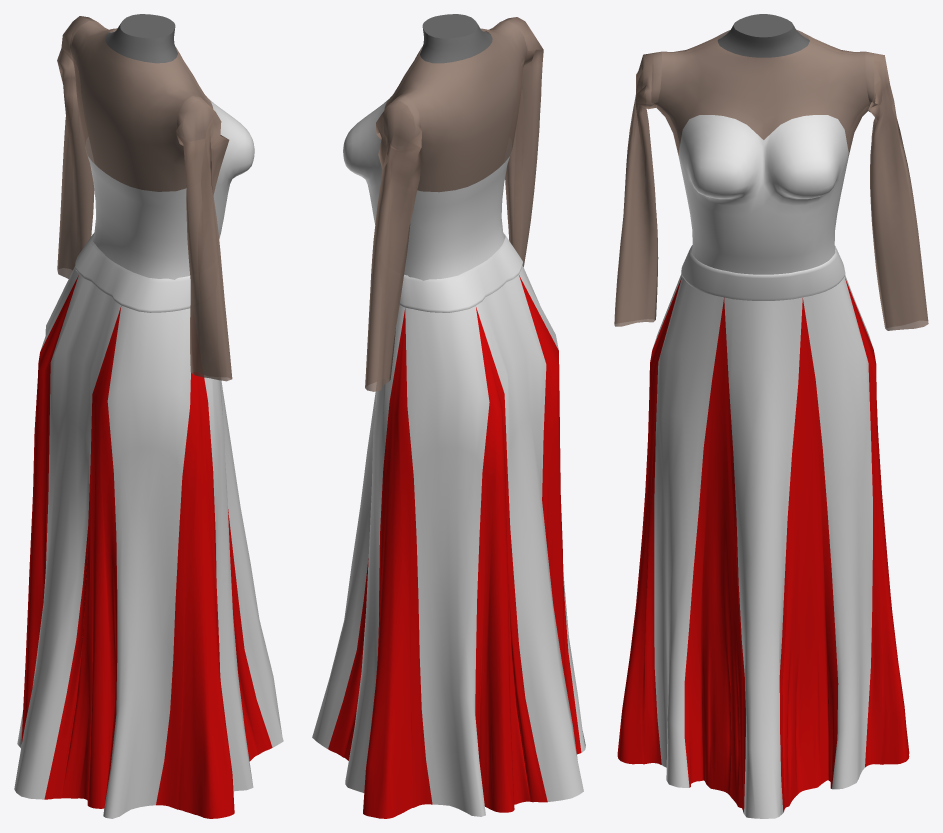
3 renders of one model, left to right at view 1: azimuth 30°, elevation 25°; view 2: azimuth 150°, elevation 25°; view 3: azimuth 270°, elevation 25°, orthographic.
Parts seen in each view (by area): view 1: Cloth (×2), Fixo (×2), manequim; view 2: Cloth (×2), Fixo (×2), manequim; view 3: Cloth (×2), Fixo (×2), manequim.
Part boxes in pixels (<box>): Cloth (×2): <box>14,16,283,818</box>; Fixo (×2): <box>70,20,254,312</box>; manequim: <box>70,14,213,191</box>; Cloth (×2): <box>312,17,585,818</box>; Fixo (×2): <box>343,21,527,312</box>; manequim: <box>384,14,527,191</box>; Cloth (×2): <box>614,51,928,818</box>; Fixo (×2): <box>656,29,869,300</box>; manequim: <box>652,14,873,141</box>.
Size of the model in its own units: 3.3 by 8.97 by 3.45.
